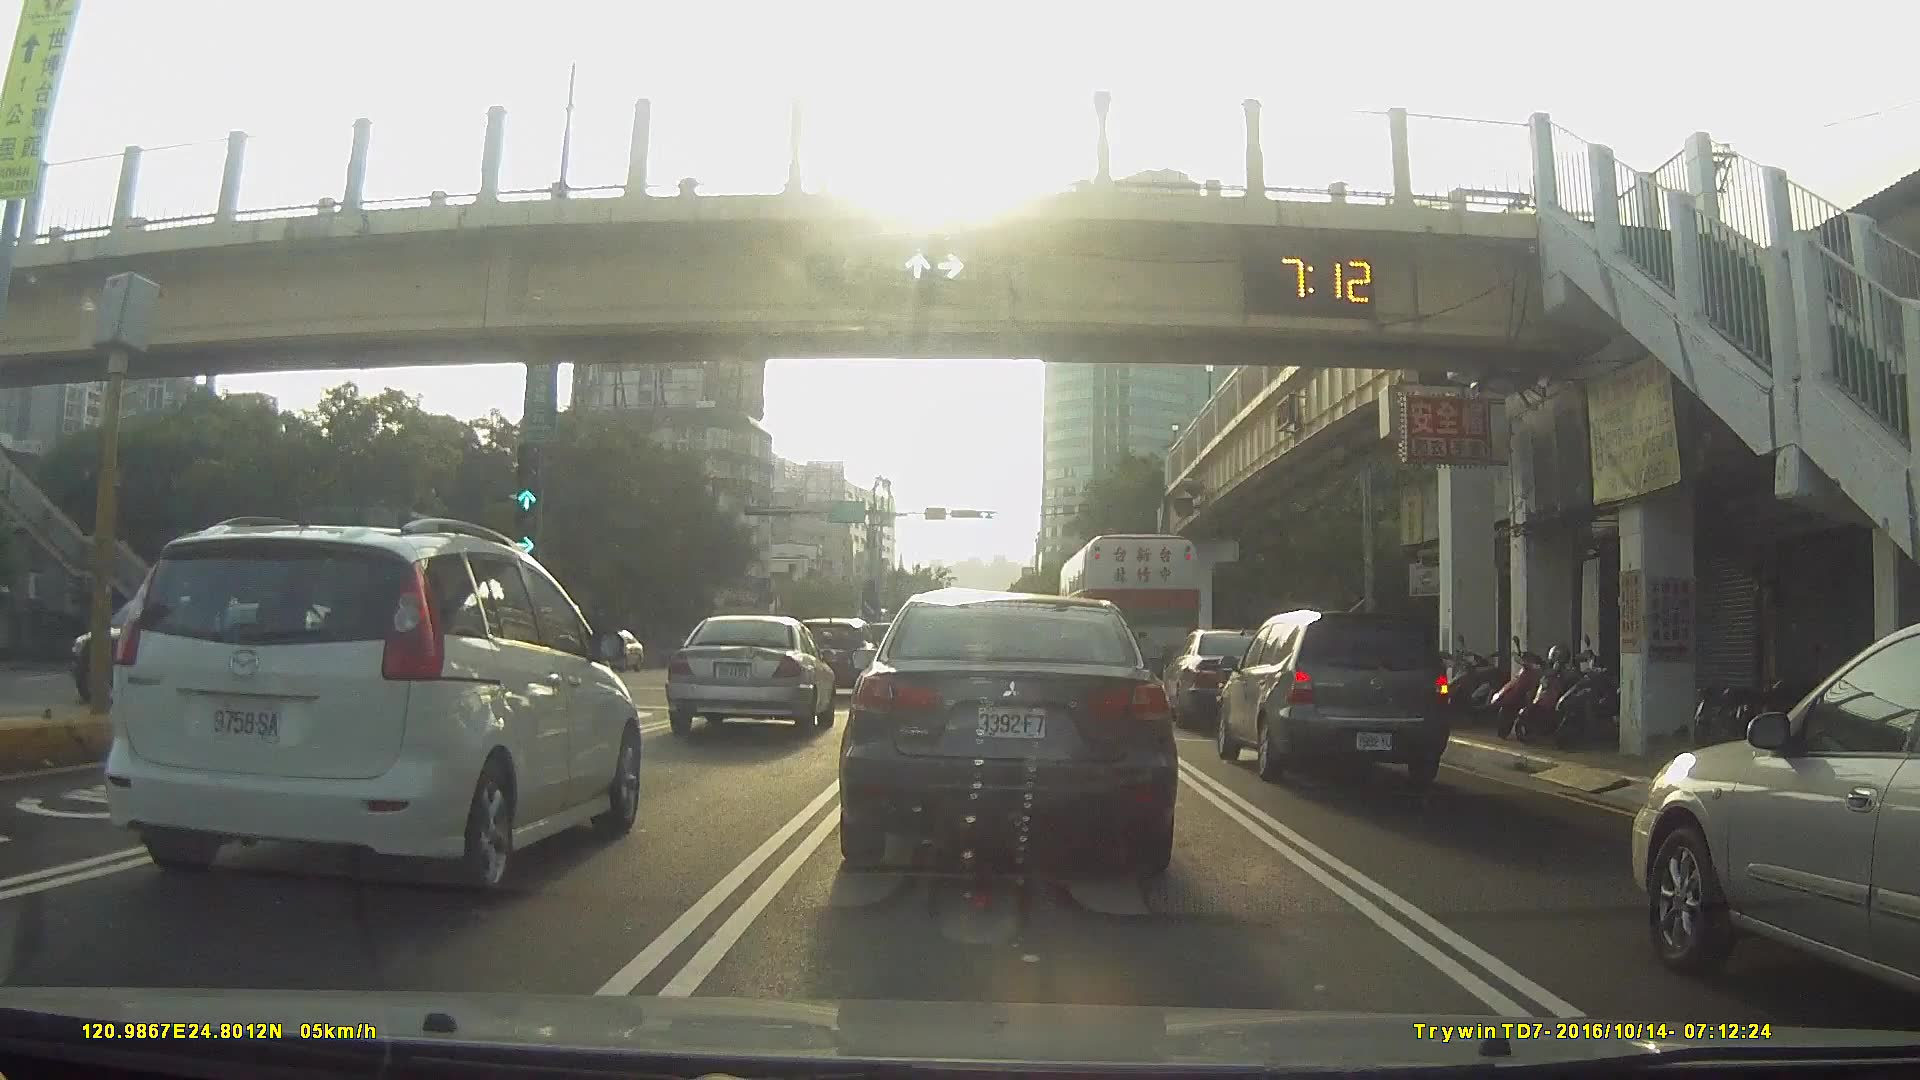vehicle: (95, 514, 644, 902), (1627, 622, 1920, 1007), (841, 585, 1176, 889), (1213, 607, 1451, 791), (1060, 535, 1215, 696), (665, 615, 835, 737), (1158, 626, 1284, 731), (793, 613, 880, 691), (582, 626, 647, 676)
